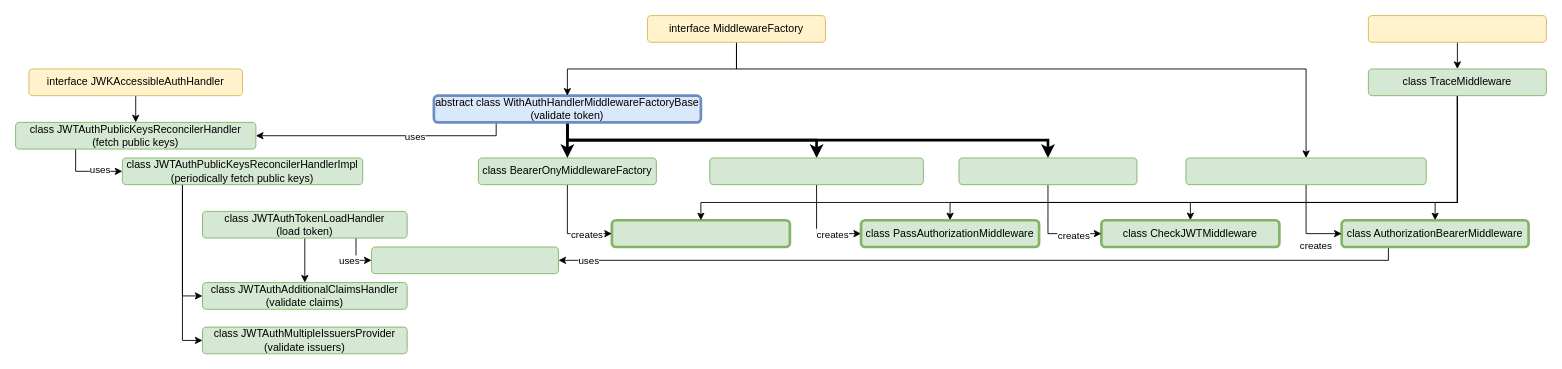
The diagram is 1562 pixels wide and 369 high, and some of its shapes have lost their labels. Each missing label, with the centre of its shape:
"class AuthorizationBearerMiddlewareFactory" belongs at (x=1305, y=171).
"class BearerOnyMiddleware" belongs at (x=700, y=233).
"class CheckJWTMiddlewareFactory" belongs at (x=1047, y=171).
"class PassAuthorizationMiddlewareFactory" belongs at (x=816, y=171).
"class SessionScopeAuthTokenLoader (load token from session)" belongs at (x=464, y=260).
"interface Middleware" belongs at (x=1456, y=28).
